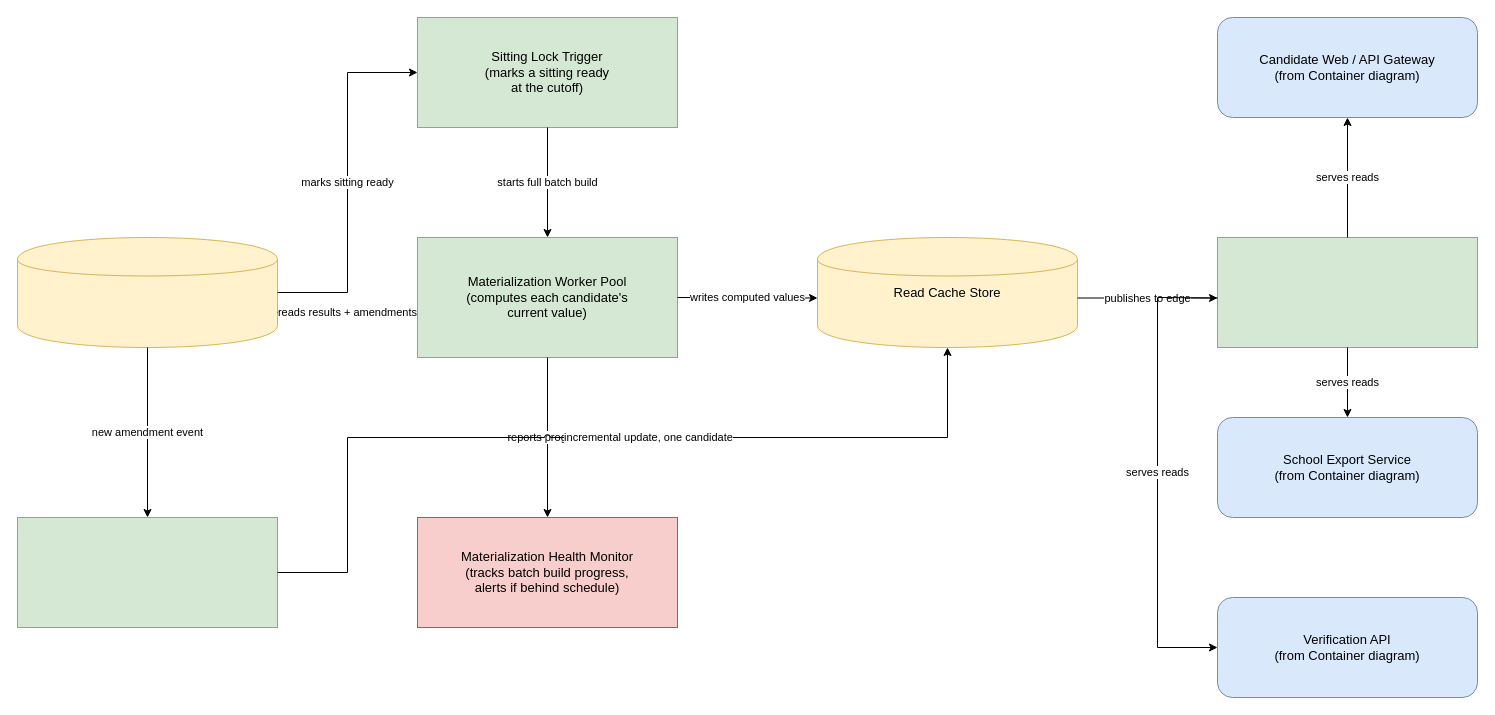
Some shapes in this 1495 by 715 pixel diagram are drawn without their labels. Each missing label, with the box of its shape:
Amendment Listener (re-materializes one candidate the moment an amendment lands): (16, 516, 278, 628)
CDN / Edge Layer: (1216, 236, 1478, 348)
Event Store (from Container diagram): (16, 236, 278, 348)
